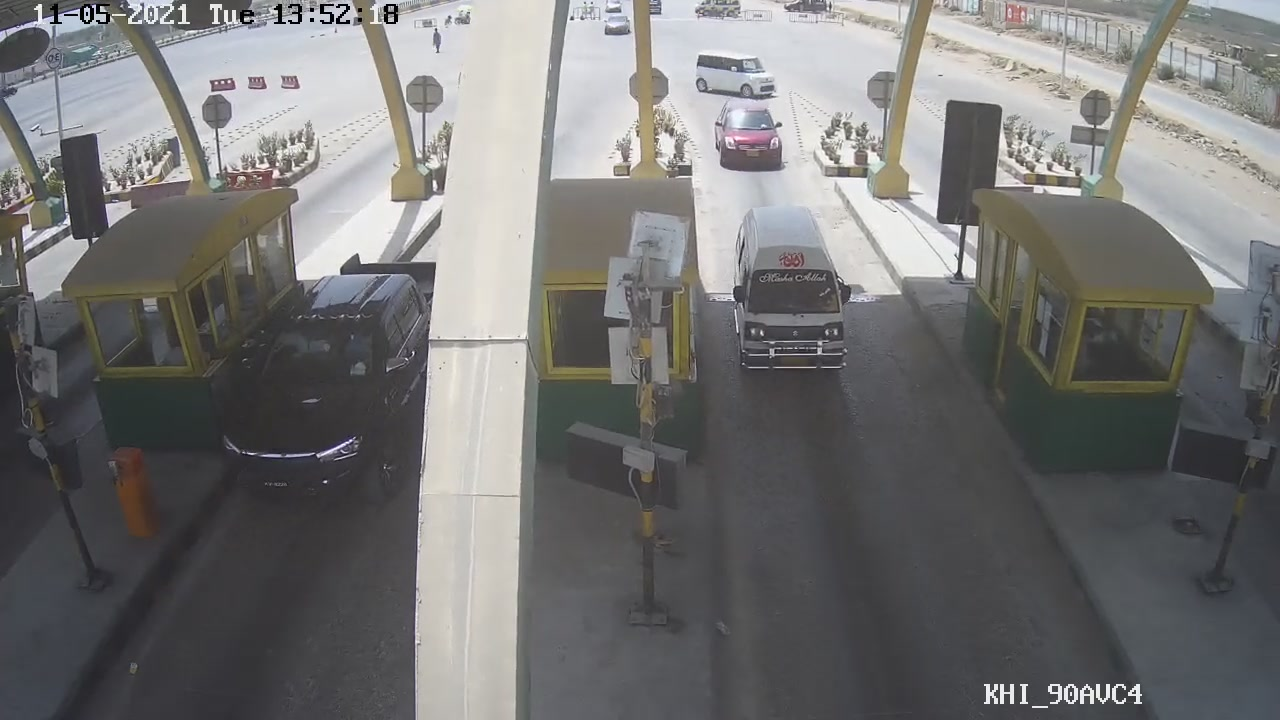F1: (728, 195, 859, 383)
